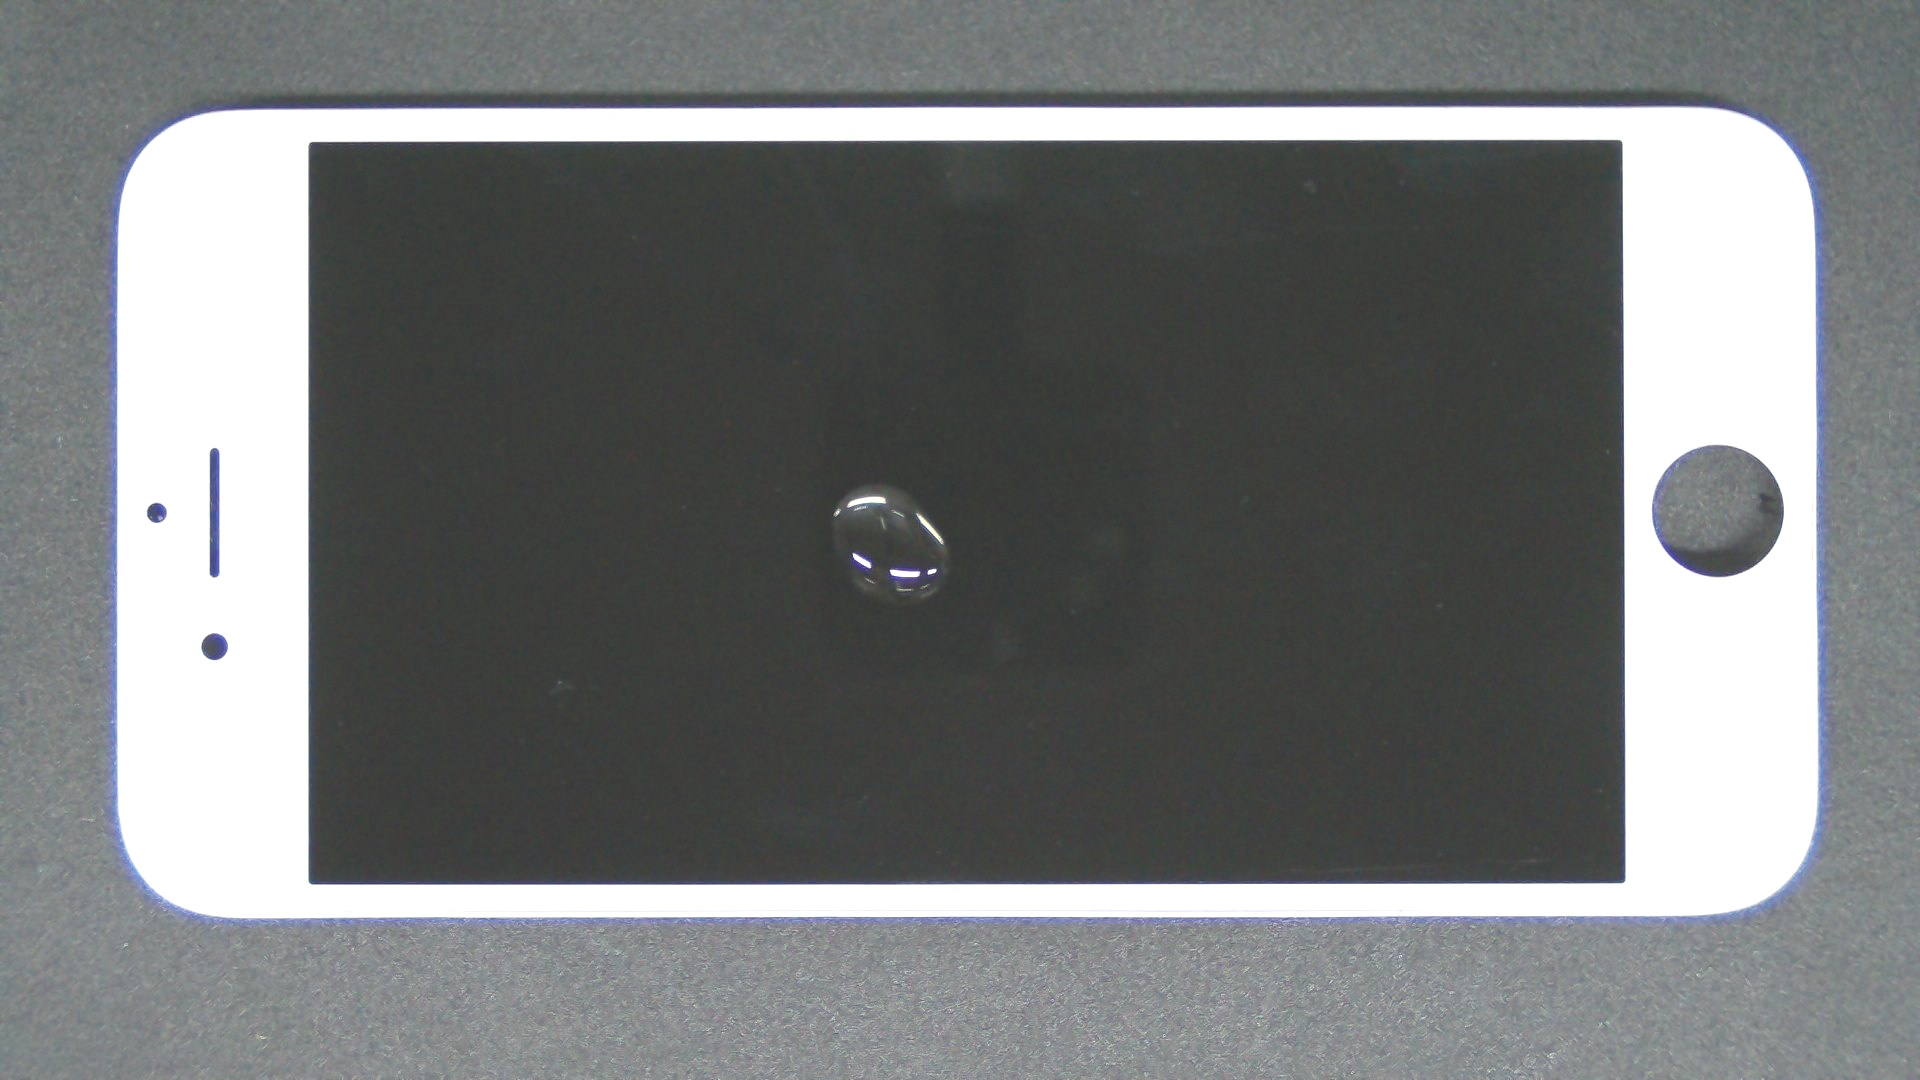oil: (436, 243, 1309, 728)
